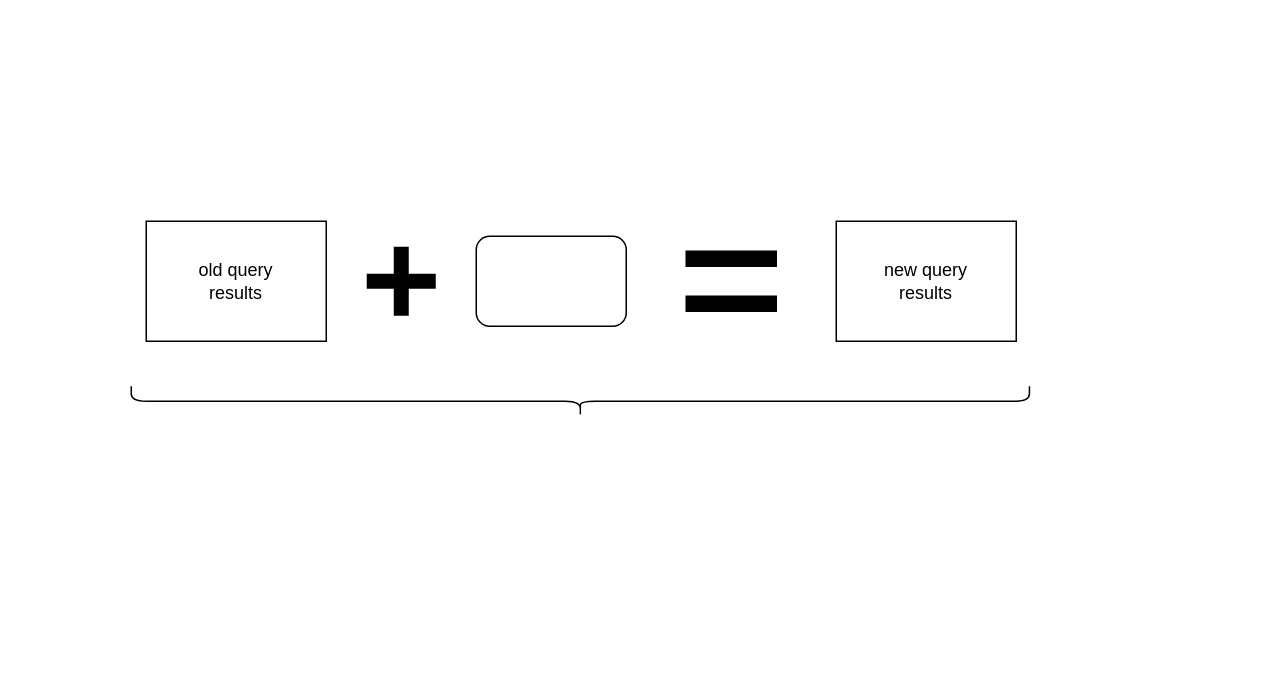
Image size: 1268x698. Some labels were removed from this diagram. Each missing label, with the centre of its shape:
"Event" goes at pixel 550 280.
"Event Reduce" goes at pixel 579 400.
